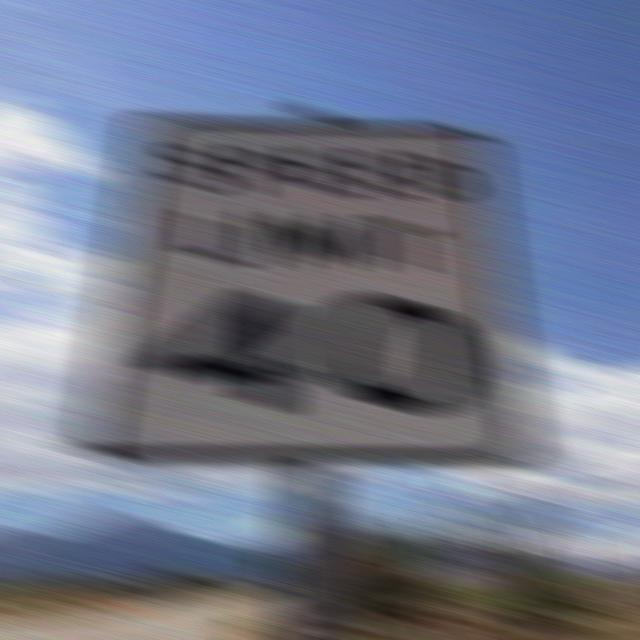speedLimit40: (62, 112, 553, 475)
